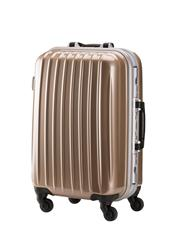suitcase: (30, 39, 149, 221)
